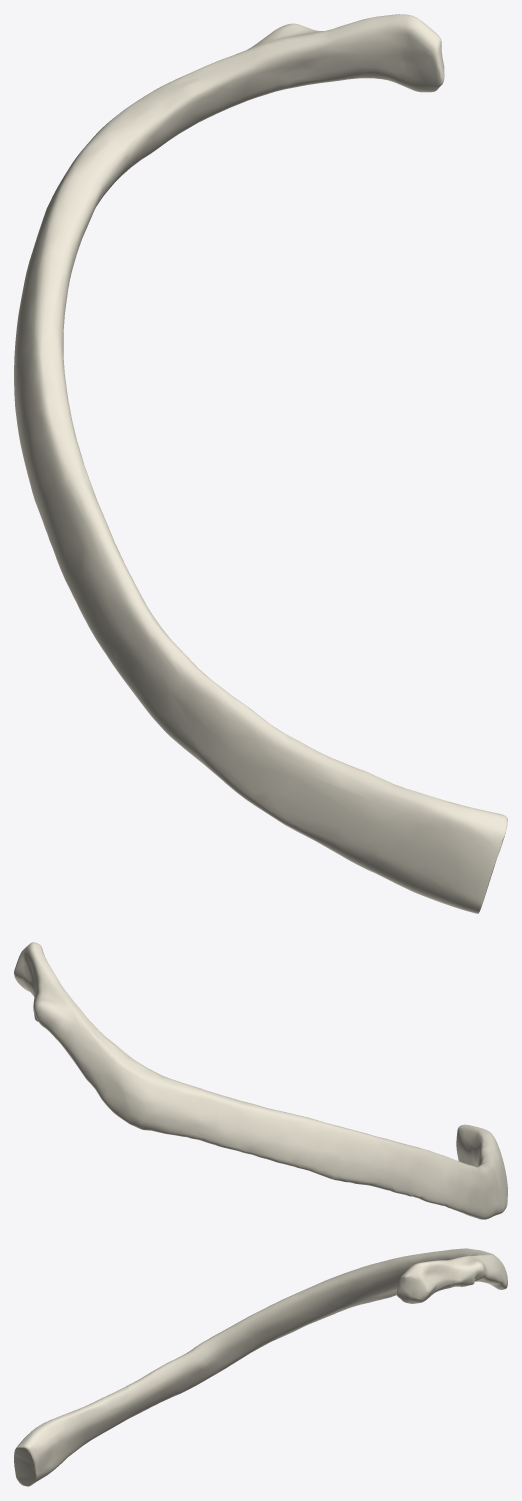
File: fma8175_fj3344.glb
3 views of the same model, one above another, from view 1: azimuth 30°, elevation 25°; view 2: azimuth 150°, elevation 25°; view 3: azimuth 270°, elevation 25° (orthographic). The views are drawn at different scales.
Visible parts, largest first — view 1: FMA8175_FJ3344; view 2: FMA8175_FJ3344; view 3: FMA8175_FJ3344.
Boxes of the visible parts, box(x1,y1,x2,y2) form: FMA8175_FJ3344: box(14, 14, 507, 913); FMA8175_FJ3344: box(14, 942, 507, 1219); FMA8175_FJ3344: box(14, 1248, 507, 1486).
Bounding box in the file's own units: 0.1195 × 0.1278 × 0.1899.
